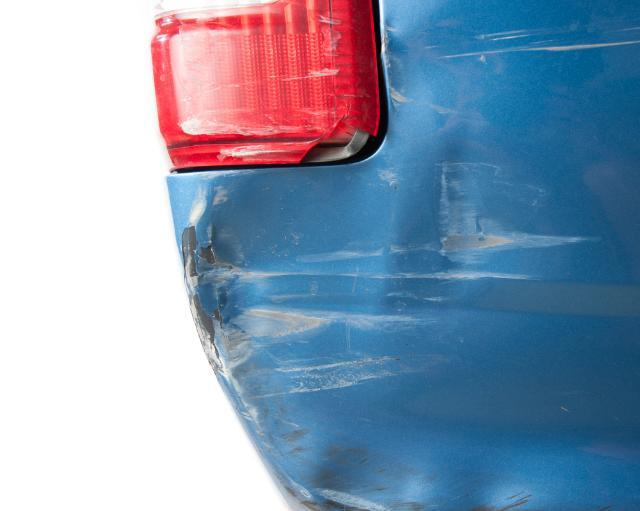dent: (180, 15, 536, 511)
lamp broken: (150, 0, 382, 170)
